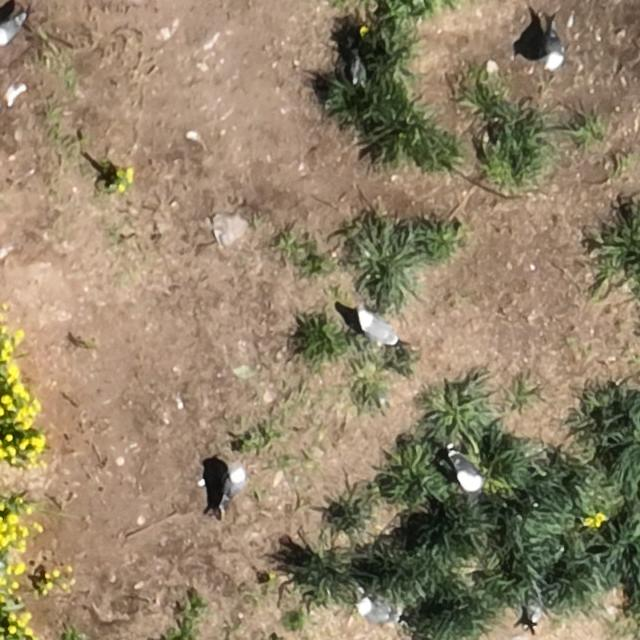umineko: (361, 314, 397, 344), (454, 457, 482, 491), (358, 602, 396, 624), (0, 16, 23, 45), (225, 469, 245, 502), (545, 34, 564, 68)
